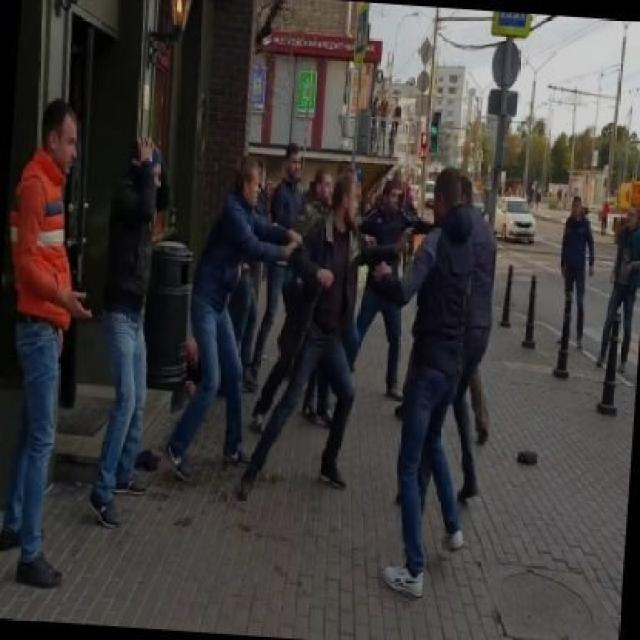fight: (242, 155, 500, 603)
non-fight: (371, 153, 506, 604), (0, 92, 112, 595), (549, 194, 602, 348)
